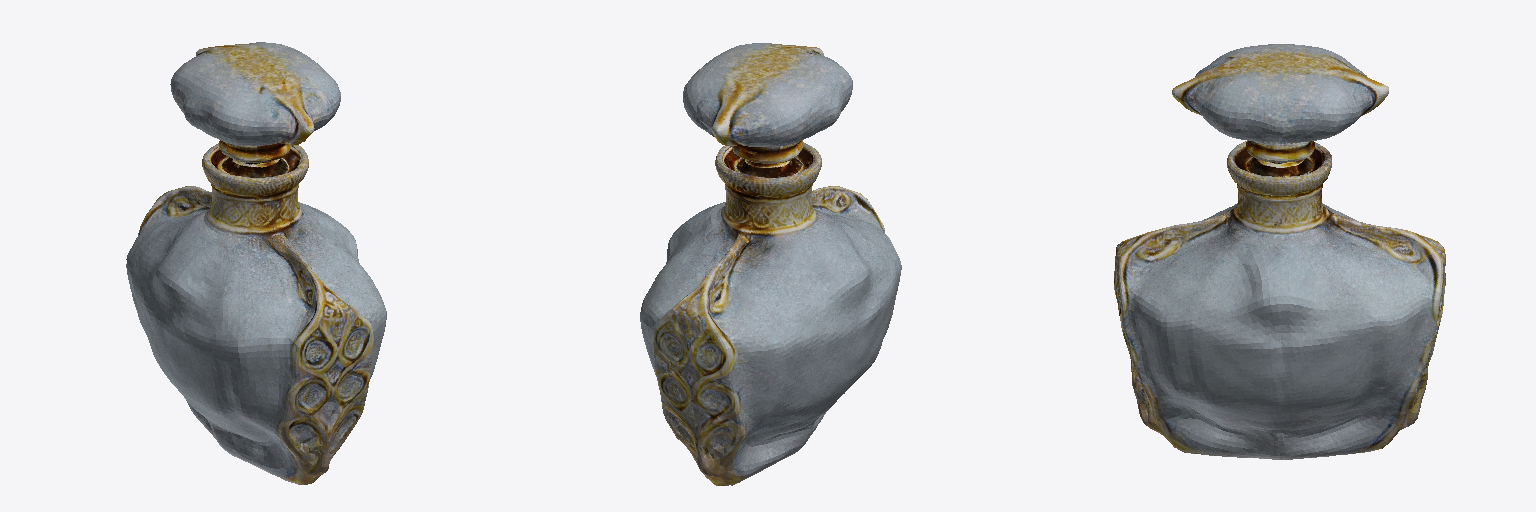
3 renders of one model, left to right at view 1: azimuth 30°, elevation 25°; view 2: azimuth 150°, elevation 25°; view 3: azimuth 270°, elevation 25°, orthographic.
Parts seen in each view (by area): view 1: mesh; view 2: mesh; view 3: mesh.
Part boxes in pixels (x1,y1,x2,y2): mesh: (126,42,386,484); mesh: (640,43,901,485); mesh: (1114,44,1445,459).
Bounding box in the file's own units: 0.5082 × 0.9994 × 0.7743.
1 materials, 1 textured.